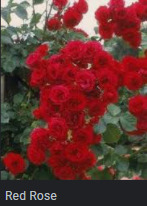RedRose: (64, 137, 95, 161), (122, 62, 147, 87), (71, 72, 102, 91), (1, 153, 28, 174), (24, 44, 49, 66), (48, 119, 71, 141), (30, 125, 52, 147), (26, 146, 50, 166), (61, 8, 87, 26), (36, 97, 57, 119), (91, 47, 114, 67), (63, 93, 88, 111), (68, 122, 100, 135), (121, 29, 145, 46), (128, 97, 147, 118), (54, 163, 80, 178), (66, 39, 84, 60), (97, 84, 118, 101), (27, 66, 49, 81), (40, 86, 61, 101), (133, 1, 147, 21), (90, 102, 108, 117), (95, 3, 110, 20), (95, 26, 113, 40), (58, 81, 69, 103), (61, 66, 77, 81), (54, 52, 69, 65), (44, 17, 60, 29), (123, 14, 137, 26), (50, 2, 67, 8), (75, 4, 89, 11)
